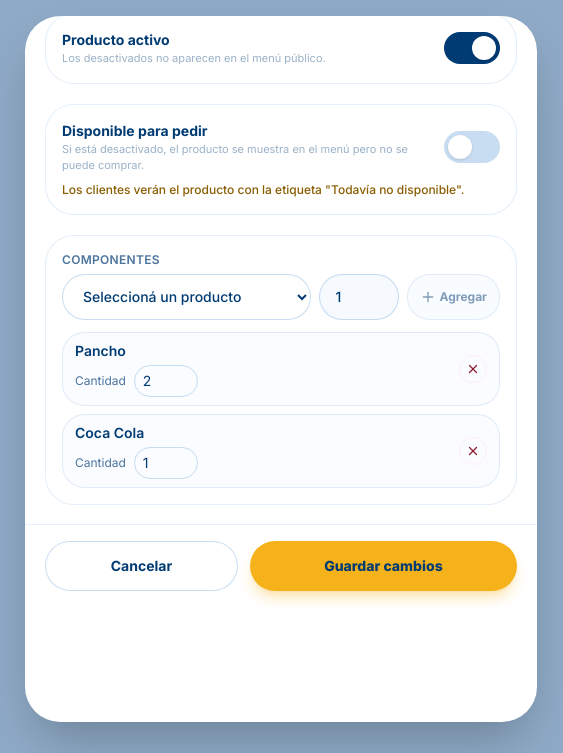
Test: ProductFormDialog — promo component editor › removes a component when remove is clicked
(page scrolled)
Expected: the text "Pancho" is shown, [75,342,126,359]
// Click the first remove button (should be for Pancho since it's first)
Click the button named "quitar" in the row of "Pancho" at x=473, y=369, box [459,355,487,383]
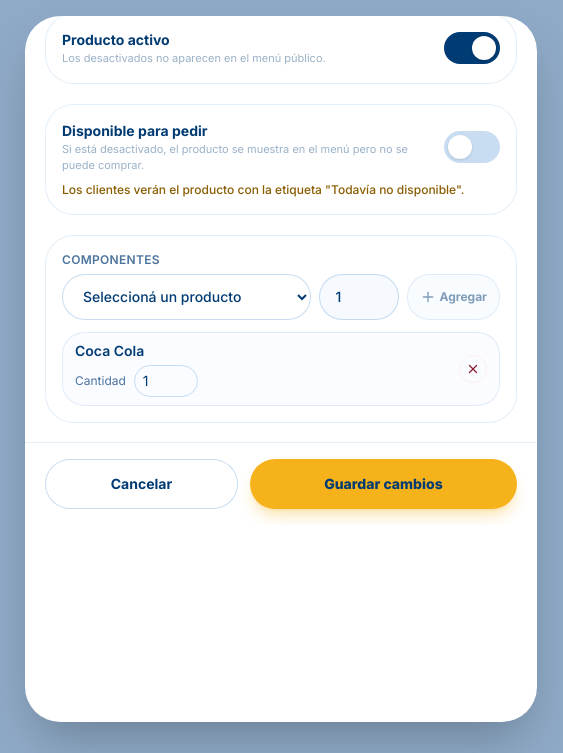
Result: the text "Pancho" is gone
